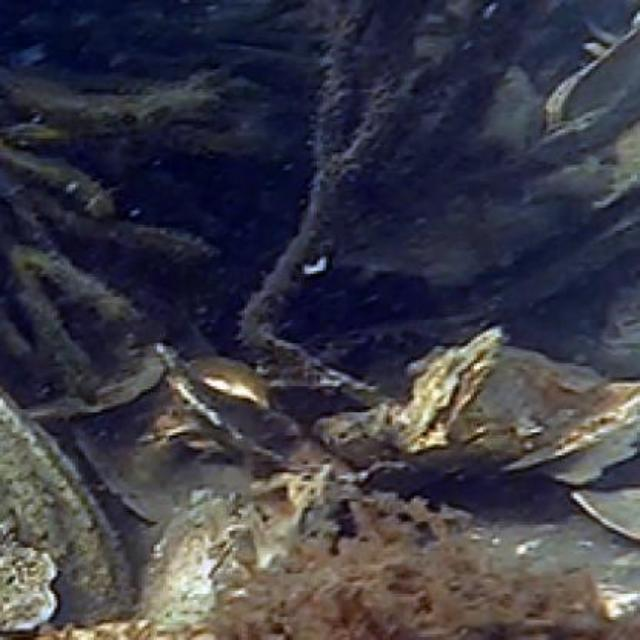Oyster-Closed: (0, 386, 140, 626), (133, 491, 263, 635), (0, 542, 58, 632)
Oyster-Open: (290, 126, 638, 344), (389, 334, 508, 452)
